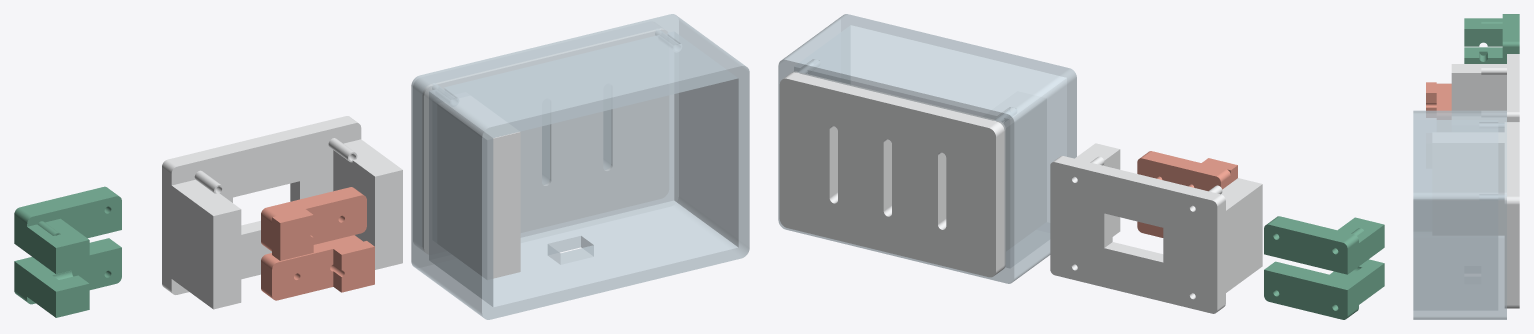
Rendered from m3_clamp_cut_demold.glb.
3 views of the same model, side by side, from view 1: azimuth 30°, elevation 25°; view 2: azimuth 150°, elevation 25°; view 3: azimuth 270°, elevation 25° (orthographic). The views are drawn at different scales.
Visible parts, largest first — view 1: X04_cutter_guard, X03_guarded_shear_mount, X01_sg90_clamp_mount, W08_split_support_upper, X02_soft_clamp_jaw_b, X02_soft_clamp_jaw_a, W07_split_support_lower; view 2: X03_guarded_shear_mount, X04_cutter_guard, X01_sg90_clamp_mount, W08_split_support_upper, W07_split_support_lower, X02_soft_clamp_jaw_b; view 3: X04_cutter_guard, X03_guarded_shear_mount, X01_sg90_clamp_mount, W08_split_support_upper, X02_soft_clamp_jaw_b, W07_split_support_lower.
Part boxes in pixels (x1,y1,x2,y2): X04_cutter_guard: (411, 14, 749, 319); X03_guarded_shear_mount: (413, 22, 669, 279); X01_sg90_clamp_mount: (162, 116, 402, 309); W08_split_support_upper: (14, 186, 121, 274); X02_soft_clamp_jaw_b: (261, 187, 366, 260); X02_soft_clamp_jaw_a: (261, 235, 374, 300); W07_split_support_lower: (14, 238, 121, 317); X03_guarded_shear_mount: (779, 71, 1046, 277); X04_cutter_guard: (778, 14, 1076, 283); X01_sg90_clamp_mount: (1050, 143, 1262, 313); W08_split_support_upper: (1264, 216, 1384, 274); W07_split_support_lower: (1264, 259, 1384, 319); X02_soft_clamp_jaw_b: (1137, 151, 1237, 191); X04_cutter_guard: (1413, 110, 1506, 319); X03_guarded_shear_mount: (1433, 122, 1519, 308); X01_sg90_clamp_mount: (1451, 54, 1519, 131); W08_split_support_upper: (1464, 14, 1519, 63); X02_soft_clamp_jaw_b: (1426, 82, 1451, 119); W07_split_support_lower: (1464, 47, 1502, 63).
Size of the model in its own units: 235 by 66 by 50.
